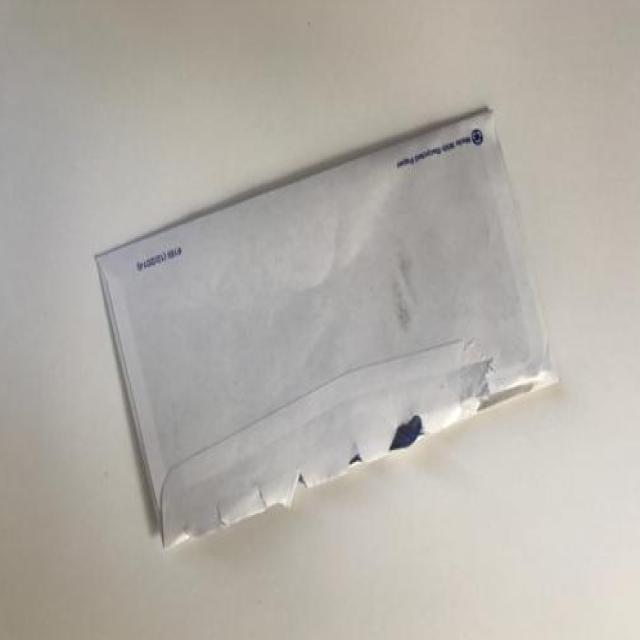kertas: (95, 101, 562, 550)
